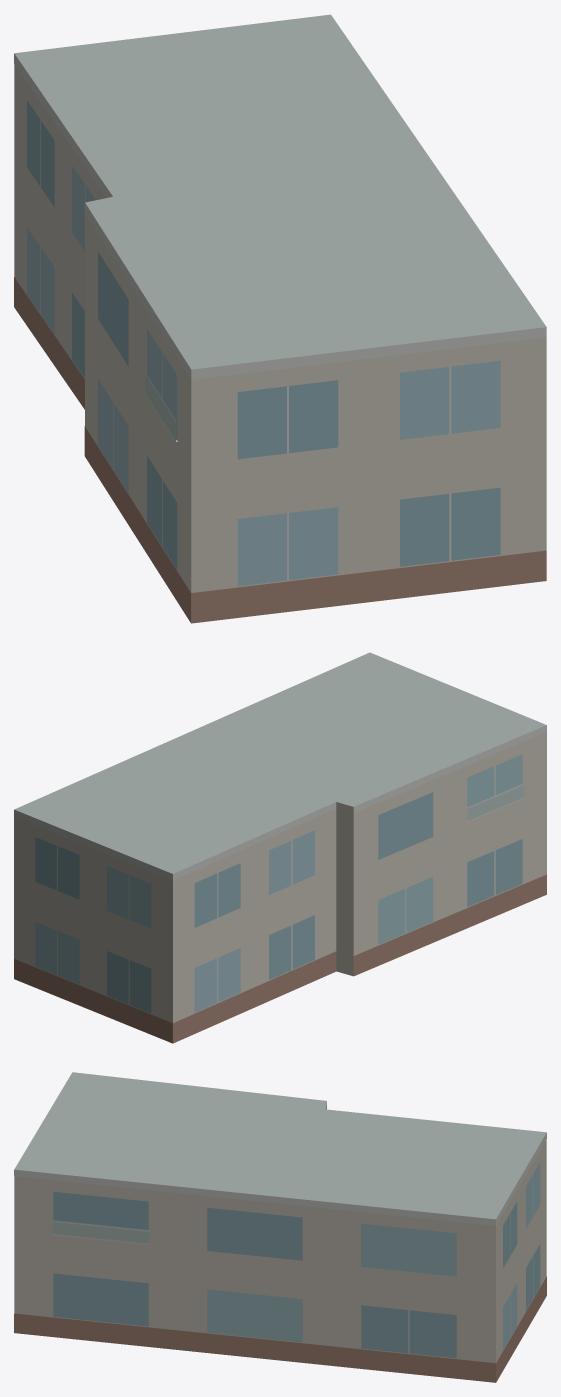
File: survey-upis-32831624.glb
The picture shows the model from 3 angles, top to bottom: view 1: azimuth 30°, elevation 25°; view 2: azimuth 150°, elevation 25°; view 3: azimuth 270°, elevation 25°; orthographic projection. The views are drawn at different scales.
Visible parts, largest first — view 1: survey-upis-32831624.tmp; view 2: survey-upis-32831624.tmp; view 3: survey-upis-32831624.tmp.
Part boxes in pixels (x1,y1,x2,y2): survey-upis-32831624.tmp: (14,14,546,623); survey-upis-32831624.tmp: (14,652,546,1043); survey-upis-32831624.tmp: (14,1072,546,1382).
Bounding box in the file's own units: 11.8 × 6.1 × 18.03.
